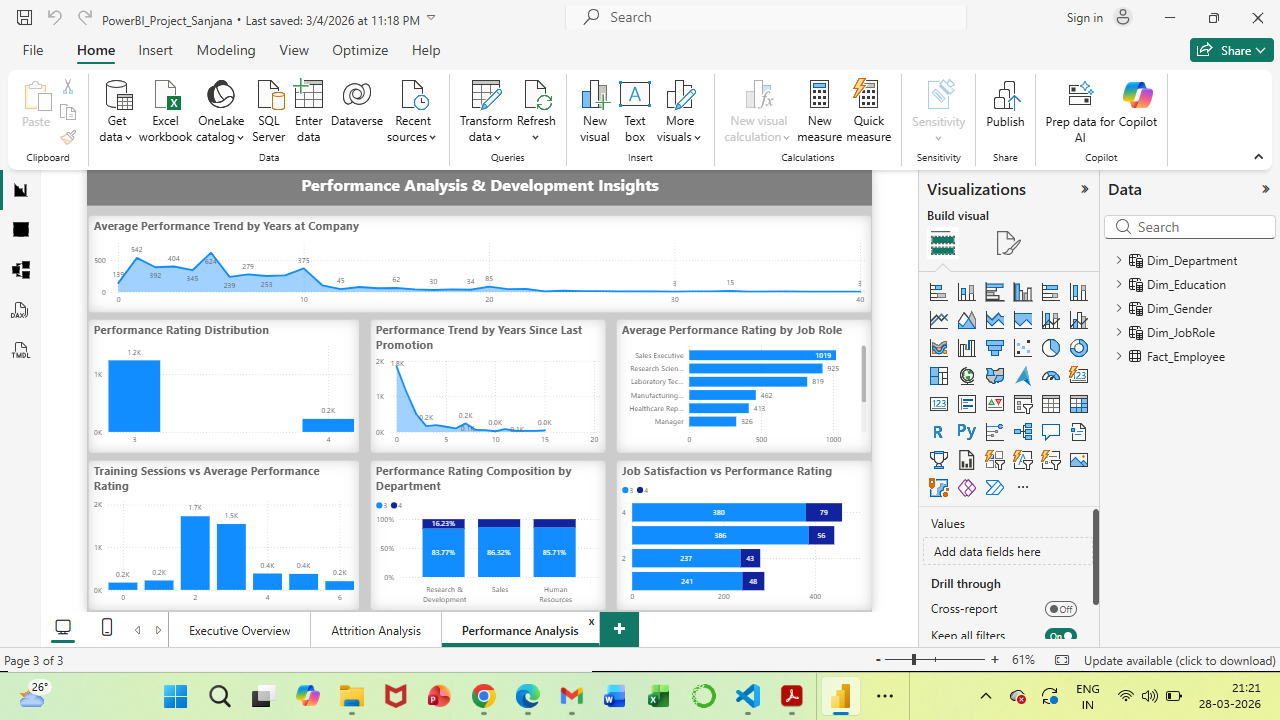

What the dashboard file says about the page in this screenshot:
{"tool":"powerbi","page":{"name":"Performance Analysis","canvas":[1280,720],"ordinal":2},"visuals":[{"type":"clusteredColumnChart","title":"Performance Rating Distribution","fields":{"Category":["Fact_Employee.PerformanceRating"],"Y":["CountNonNull(Fact_Employee.EmployeeID)"]},"box":[0,241.1,446.3,221.5],"z":7000},{"type":"hundredPercentStackedColumnChart","title":"Performance Rating Composition by Department","fields":{"Category":["Fact_Employee.Department"],"Y":["CountNonNull(Fact_Employee.EmployeeID)"],"Series":["Fact_Employee.PerformanceRating"]},"box":[459.4,470.8,387.7,249.2],"z":8000},{"type":"clusteredBarChart","title":"Average Performance Rating by Job Role","fields":{"Y":["Sum(Fact_Employee.PerformanceRating)"],"Category":["Fact_Employee.JobRole"]},"box":[860.1,241.1,420.3,221.5],"z":9000},{"type":"lineChart","title":"Average Performance Trend by Years at Company","fields":{"Y":["Sum(Fact_Employee.PerformanceRating)"],"Category":["Fact_Employee.YearsAtCompany"]},"box":[0,71.7,1280.4,162.9],"z":10000},{"type":"clusteredColumnChart","title":"Training Sessions vs Average Performance Rating","fields":{"Category":["Fact_Employee.TrainingTimesLastYear"],"Y":["Sum(Fact_Employee.PerformanceRating)"]},"box":[0,470.8,446.3,249.2],"z":12000},{"type":"barChart","title":"Job Satisfaction vs Performance Rating","fields":{"Category":["Fact_Employee.JobSatisfaction"],"Series":["Fact_Employee.PerformanceRating"],"Y":["CountNonNull(Fact_Employee.EmployeeID)"]},"box":[859.4,471.2,421.4,248.8],"z":13000},{"type":"areaChart","title":"Performance Trend by Years Since Last Promotion","fields":{"Category":["Fact_Employee.YearsSinceLastPromotion"],"Y":["Sum(Fact_Employee.PerformanceRating)"]},"box":[459.4,241.1,387.7,221.5],"z":14000},{"type":"textbox","box":[0,0,1280.7,58.1],"z":14002}]}

Visuals, with their boxes on the page's 1280x720 design canvas (x1, y1, x2, y2). These are canvas units, not pixel positions in the 1280x720 screenshot, which may show the page scaled, cropped or inside an application window:
"Performance Rating Distribution" clusteredColumnChart: bbox=(0, 241, 446, 463)
"Performance Rating Composition by Department" hundredPercentStackedColumnChart: bbox=(459, 471, 847, 720)
"Average Performance Rating by Job Role" clusteredBarChart: bbox=(860, 241, 1280, 463)
"Average Performance Trend by Years at Company" lineChart: bbox=(0, 72, 1280, 235)
"Training Sessions vs Average Performance Rating" clusteredColumnChart: bbox=(0, 471, 446, 720)
"Job Satisfaction vs Performance Rating" barChart: bbox=(859, 471, 1281, 720)
"Performance Trend by Years Since Last Promotion" areaChart: bbox=(459, 241, 847, 463)
textbox: bbox=(0, 0, 1281, 58)
